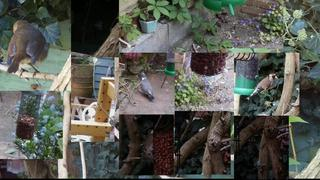goldfinch: (246, 73, 279, 102)
mouse: (141, 134, 154, 160)
robin: (6, 20, 51, 79)
wood pigeon: (140, 73, 155, 100)
